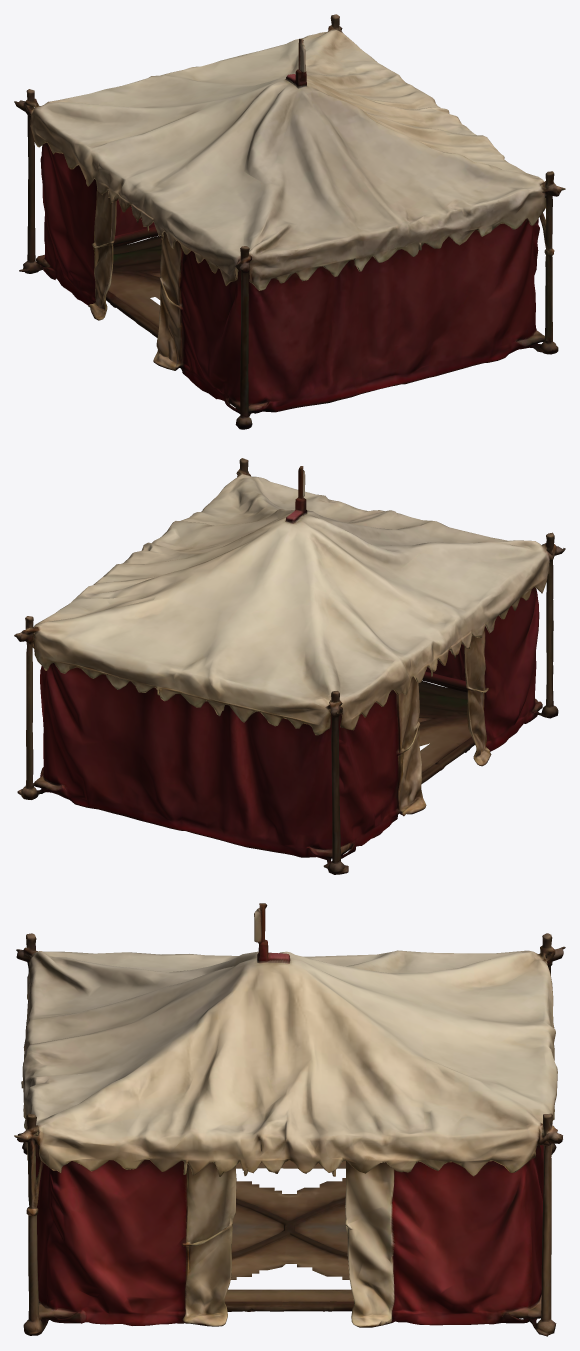
File: tent-high.glb
3 views of the same model, one above another, from view 1: azimuth 30°, elevation 25°; view 2: azimuth 150°, elevation 25°; view 3: azimuth 270°, elevation 25° (orthographic). The views are drawn at different scales.
Bounding box in the file's own units: 0.8341 × 0.6748 × 0.9974.
1 material, 1 textured.
